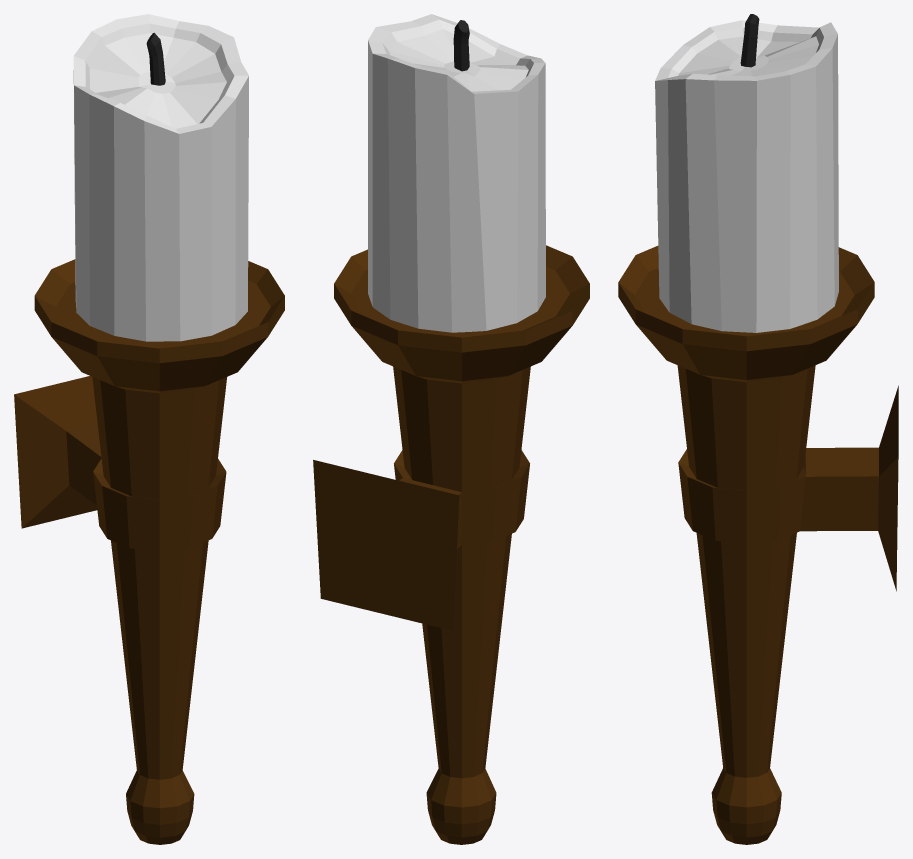
Rendered from Candle_Wall.fbx.
The picture shows the model from 3 angles, left to right: view 1: azimuth 30°, elevation 25°; view 2: azimuth 150°, elevation 25°; view 3: azimuth 270°, elevation 25°; orthographic projection. The views are drawn at different scales.
Visible parts, largest first — view 1: Holder, Low; view 2: Holder, Low; view 3: Holder, Low.
Part boxes in pixels (x1,y1,x2,y2): Holder: (14, 259, 284, 844); Low: (73, 14, 248, 341); Holder: (313, 245, 589, 844); Low: (368, 14, 545, 332); Holder: (618, 246, 898, 844); Low: (655, 14, 838, 332).
Size of the model in its own units: 99.55 by 353 by 109.
